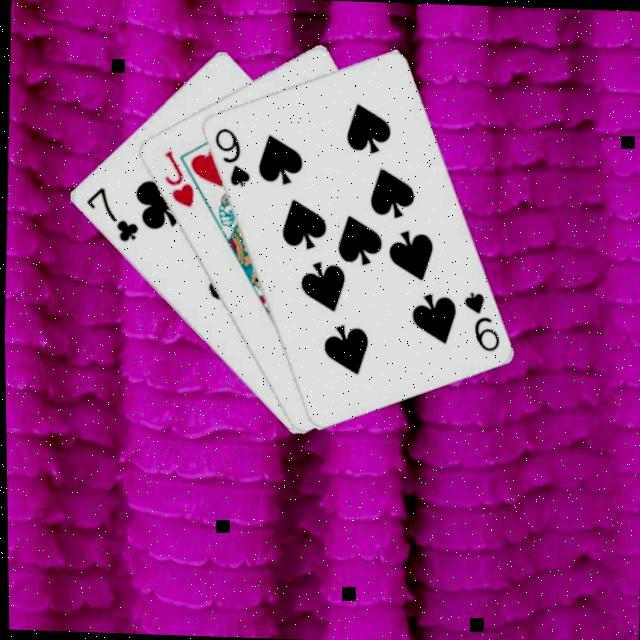7C: (78, 182, 141, 244)
9S: (454, 286, 502, 354), (206, 122, 252, 189)
JH: (156, 146, 197, 210)
